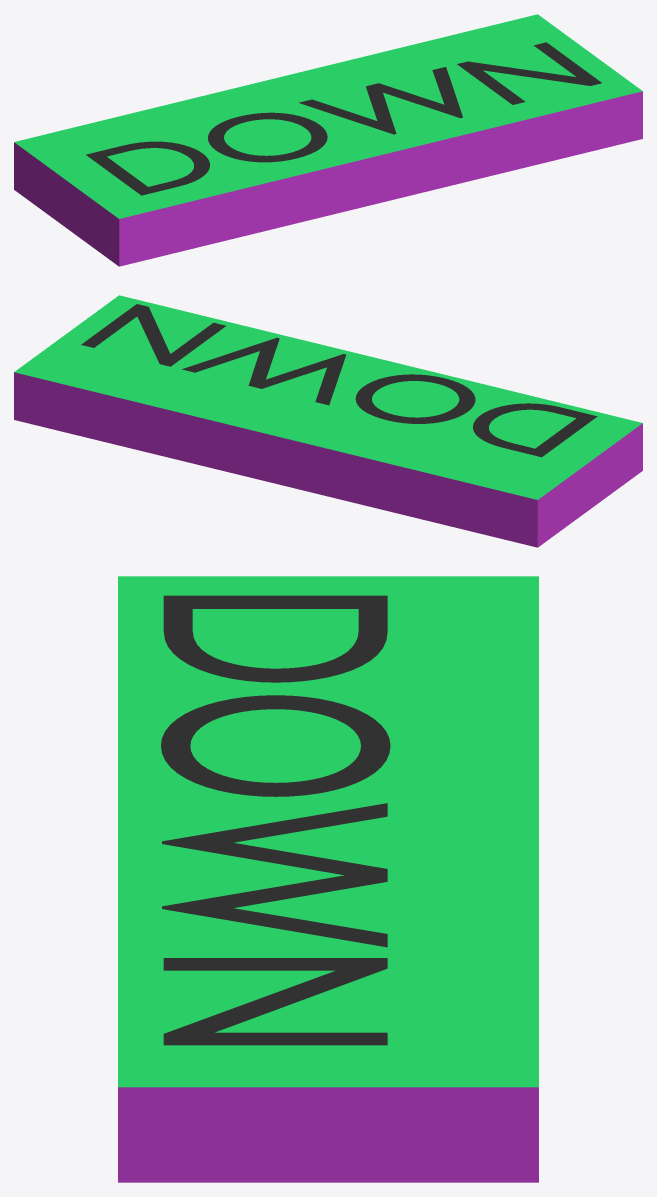
Rendered from down.glb.
3 renders of one model, top to bottom at view 1: azimuth 30°, elevation 25°; view 2: azimuth 150°, elevation 25°; view 3: azimuth 270°, elevation 25°, orthographic. The views are drawn at different scales.
Parts seen in each view (by area): view 1: Cube.005, Text.001; view 2: Cube.005, Text.001; view 3: Cube.005, Text.001.
Part boxes in pixels (x1,y1,x2,y2): Cube.005: [14, 14, 642, 266]; Text.001: [86, 42, 601, 195]; Cube.005: [14, 295, 642, 547]; Text.001: [81, 304, 597, 457]; Cube.005: [118, 576, 538, 1182]; Text.001: [161, 595, 390, 1045].
Bounding box in the file's own units: 4.6 × 0.457 × 1.6.
